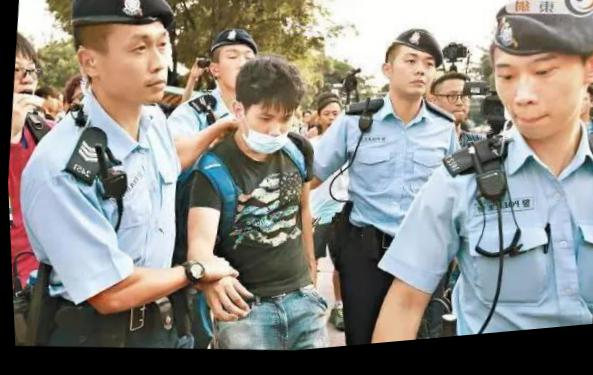NONE: (484, 54, 583, 156), (99, 23, 173, 109), (387, 55, 438, 107), (212, 49, 257, 99), (10, 55, 41, 111), (434, 90, 470, 133), (321, 111, 340, 137)
WRONG: (238, 107, 293, 163)
